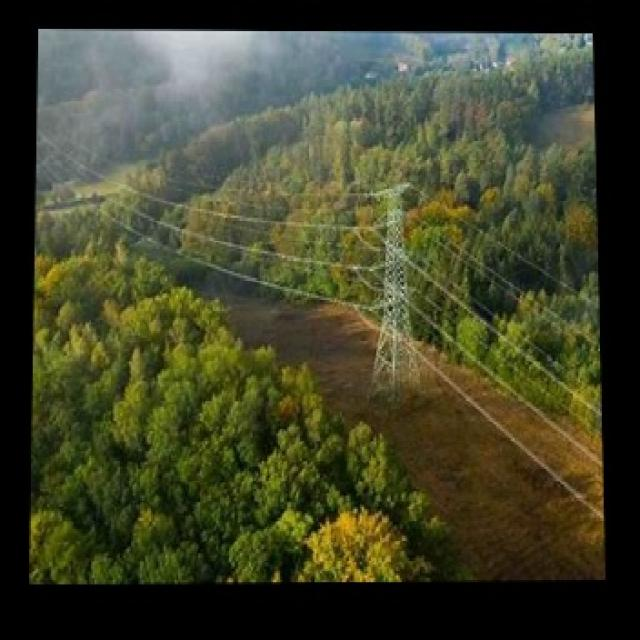utility poles: (328, 166, 452, 416)
